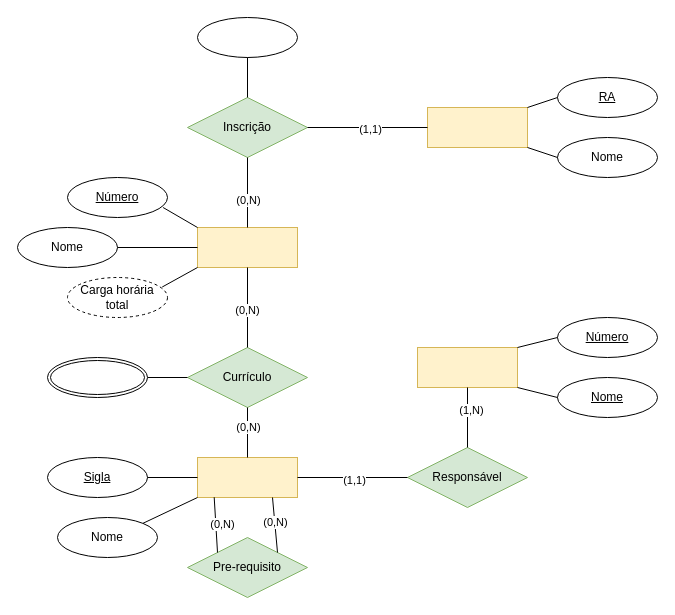
This 675x615 diagram has some shape labels left out. The shapes that lost their labels are listed below. From the top down, each one's centre as x and y in pixels, then its label:
point 247,37: Data de inscrição
point 477,127: Alunos
point 247,247: Curso
point 97,377: Carga horária
point 467,367: Departamentos
point 247,477: Disciplinas
